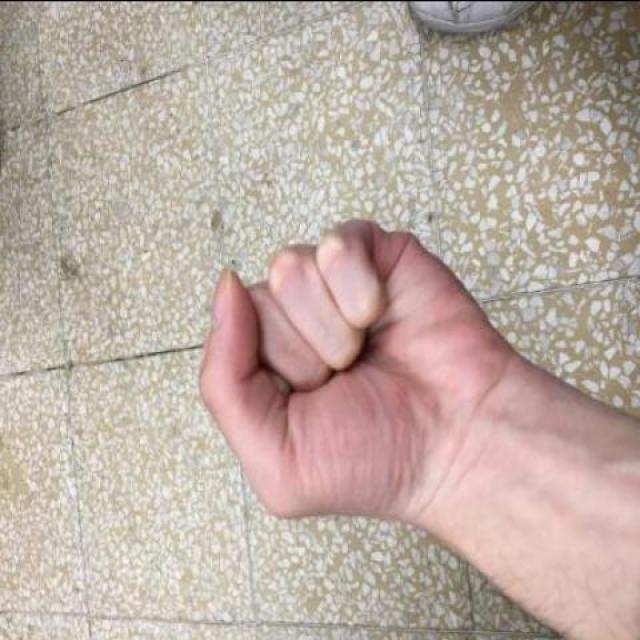Closed Hand: (191, 212, 514, 540)
